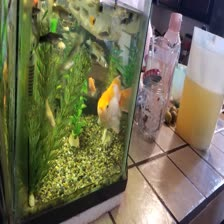Cuezo: (94, 75, 130, 136)
Guppy: (26, 27, 68, 45), (43, 94, 57, 131)
